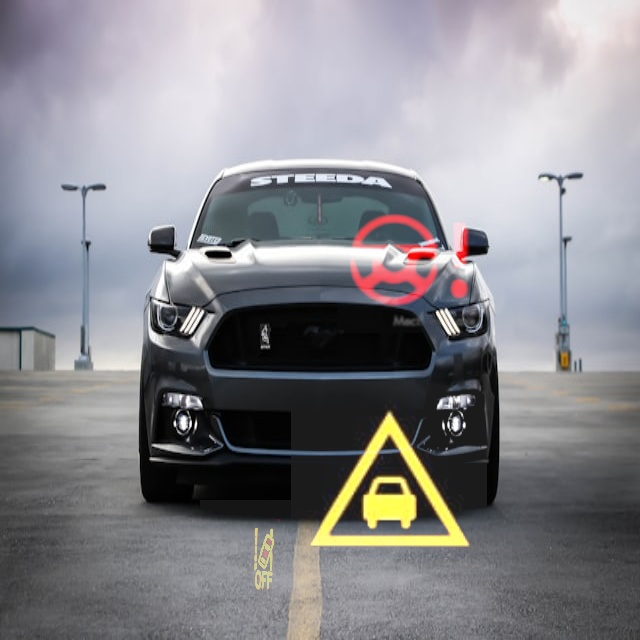symbol: (291, 385, 487, 581), (337, 189, 481, 333), (200, 500, 322, 622)
